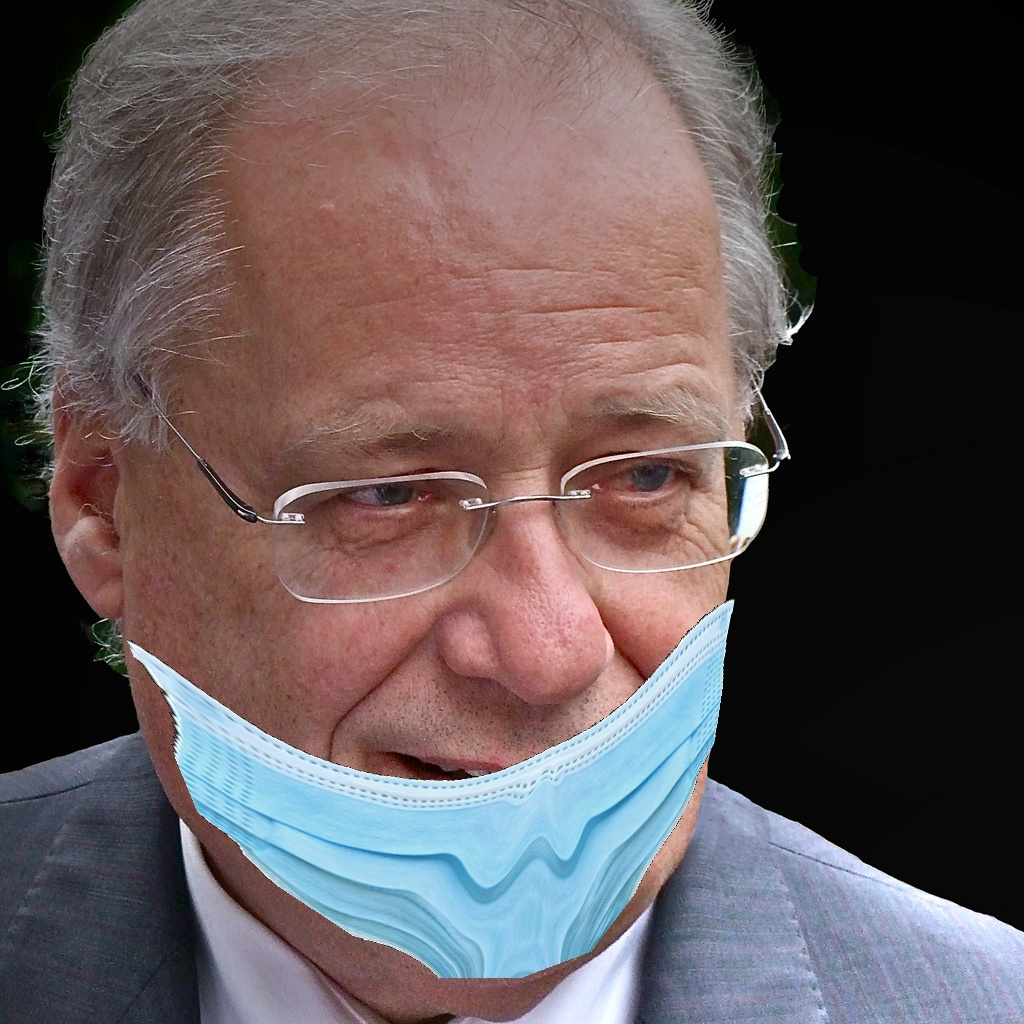mask_weared_incorrect: (212, 376, 727, 963)
